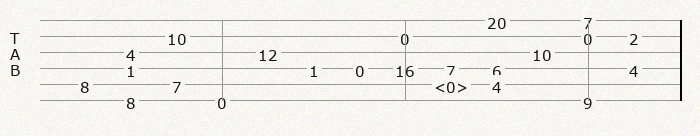0: (217, 93, 231, 108), (355, 61, 369, 76), (400, 29, 414, 44), (583, 29, 597, 44)
1: (126, 61, 140, 76), (309, 61, 323, 76)
10: (167, 29, 191, 44), (532, 45, 556, 60)
12: (258, 45, 282, 60)
16: (395, 61, 419, 76)
2: (629, 29, 643, 44)
20: (487, 13, 511, 28)
4: (126, 45, 140, 60), (492, 77, 506, 92), (629, 61, 643, 76)
6: (492, 61, 506, 76)
7: (172, 77, 186, 92), (446, 61, 460, 76), (583, 13, 597, 28)
8: (80, 77, 94, 92), (126, 93, 140, 108)
9: (583, 93, 597, 108)
harmonic: (434, 77, 472, 92)
